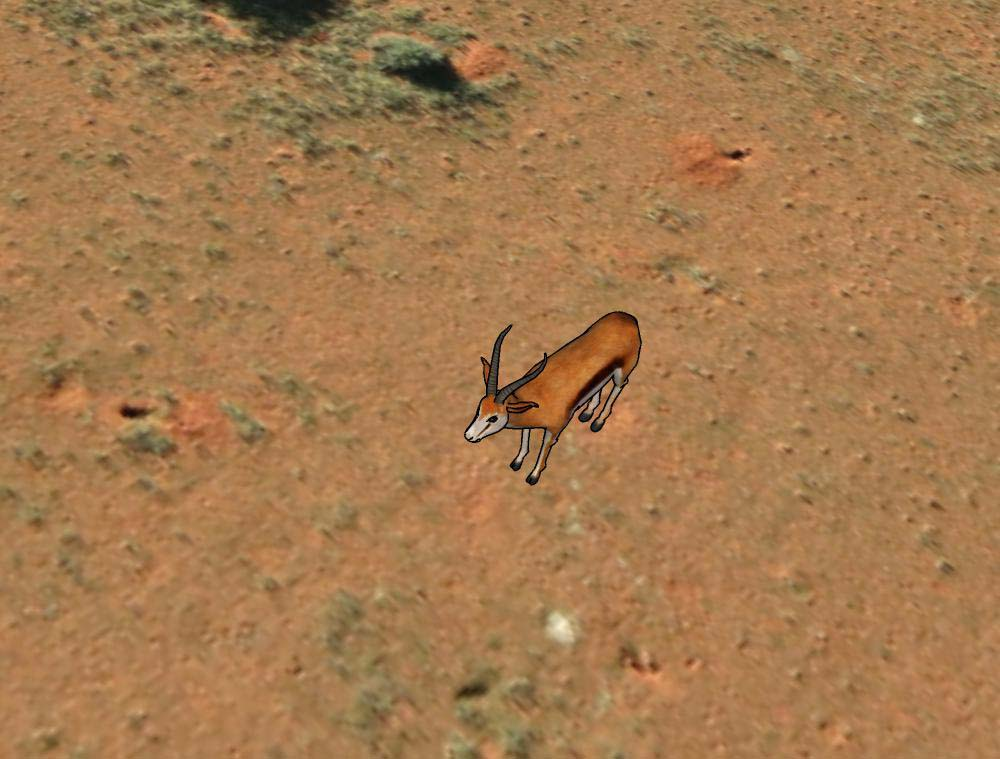springbok: (460, 309, 646, 483)
